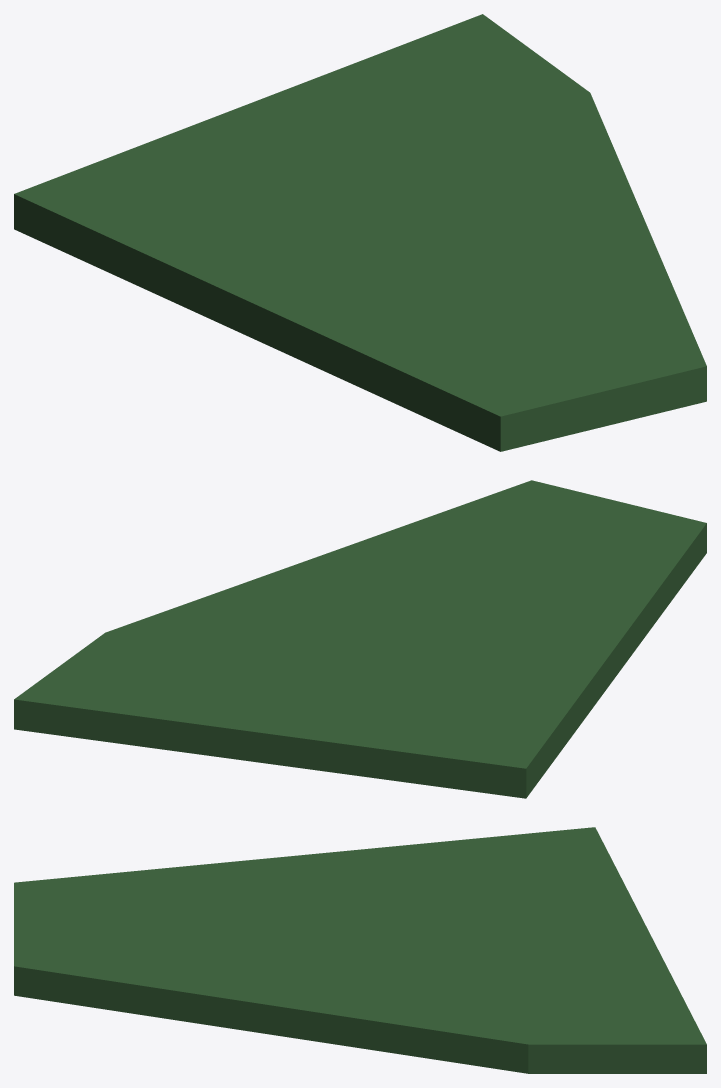
Rendered from x_proval_00_220_1_rmstrd.fbx.
3 renders of one model, top to bottom at view 1: azimuth 30°, elevation 25°; view 2: azimuth 150°, elevation 25°; view 3: azimuth 270°, elevation 25°, orthographic. The views are drawn at different scales.
Parts seen in each view (by area): view 1: x_proval_00_220_1_rmstrd1; view 2: x_proval_00_220_1_rmstrd1; view 3: x_proval_00_220_1_rmstrd1.
Boxes of the visible parts, left/top/right/bottom form: x_proval_00_220_1_rmstrd1: left=14, top=14, right=706, bottom=451; x_proval_00_220_1_rmstrd1: left=14, top=480, right=706, bottom=798; x_proval_00_220_1_rmstrd1: left=14, top=827, right=706, bottom=1073.
Bounding box in the file's own units: 3.18 × 0.2 × 4.28.
